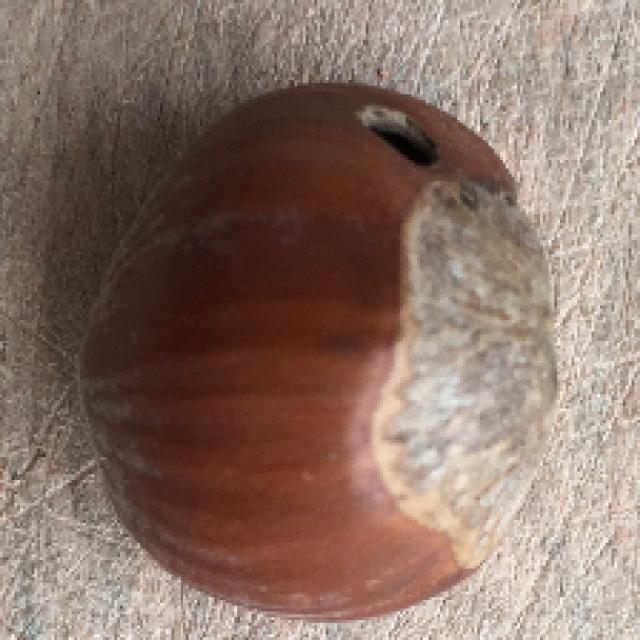damagedHazelnut: (77, 78, 554, 628)
